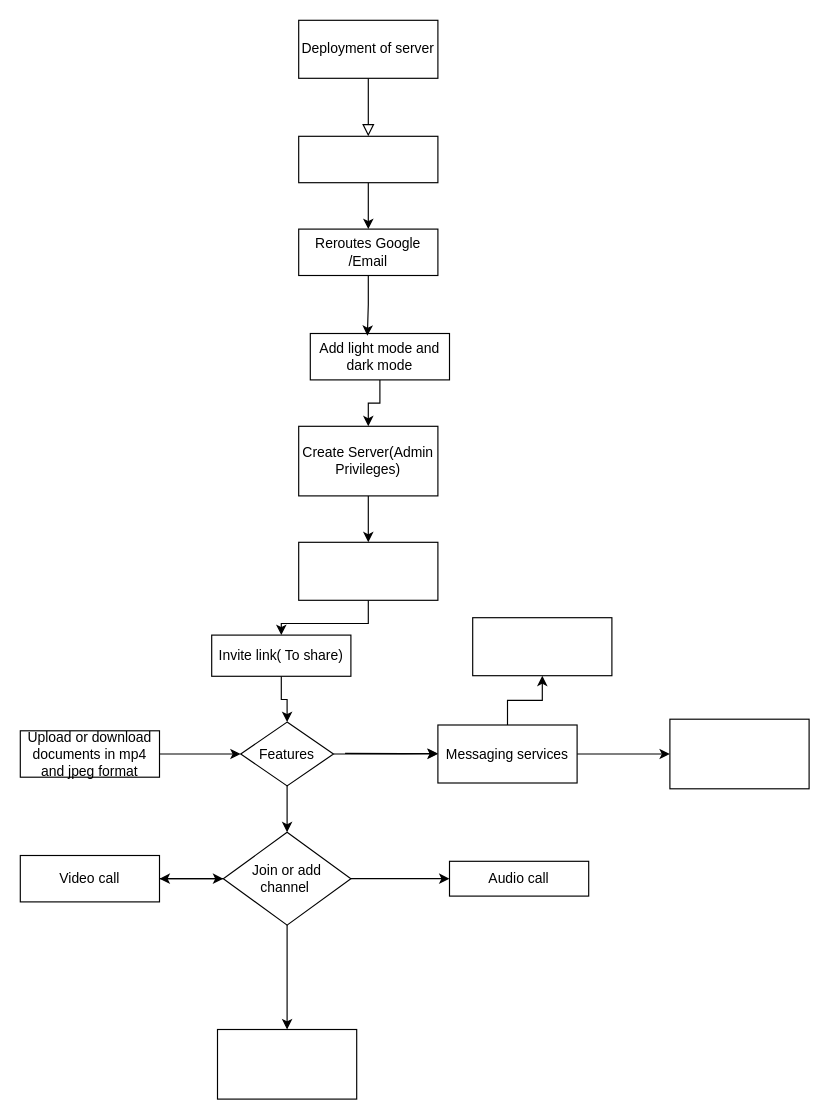
This 829x1119 diagram has some shape labels left out. Here are the shapes that lost their labels. From the top down, the box of each, then its label:
(298, 135, 438, 183): Authentication
(298, 541, 438, 600): Edit details
(472, 617, 612, 676): Editing messages
(669, 718, 809, 789): Deletion of messages
(216, 1028, 357, 1099): Closing
